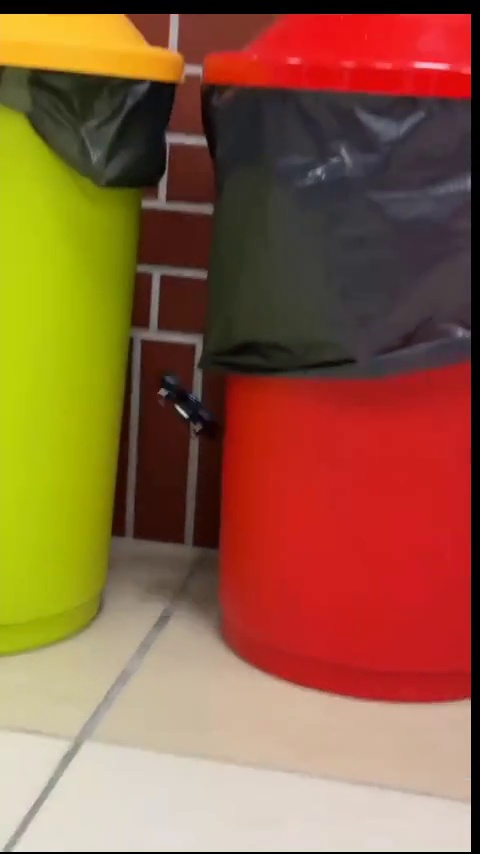drone: (151, 374, 217, 435)
